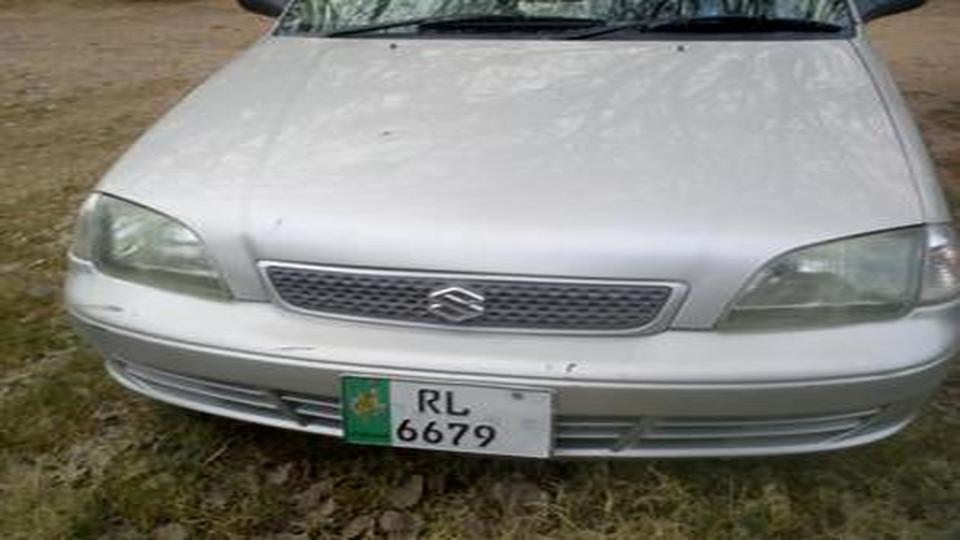NumberPlate: (338, 371, 558, 461)
